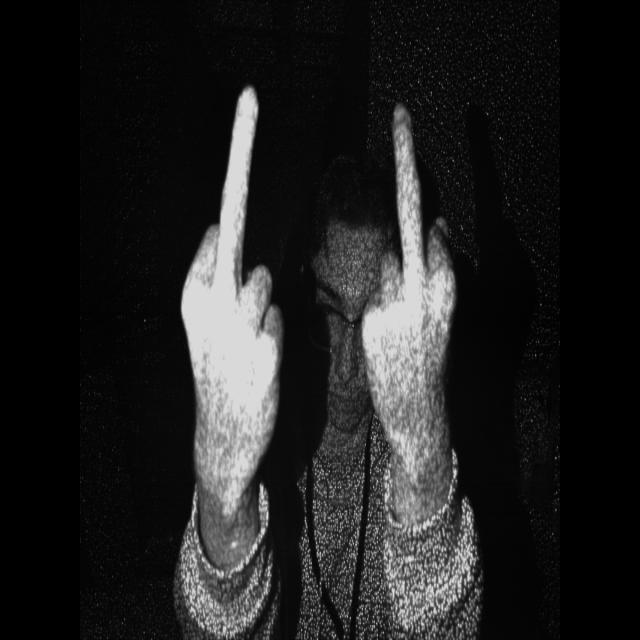FUCK YOU: (168, 59, 309, 514), (350, 86, 474, 501)
